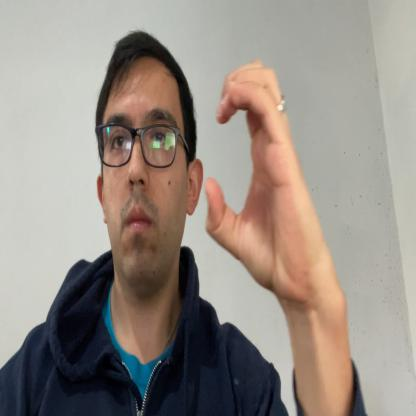C: (203, 59, 314, 304)
